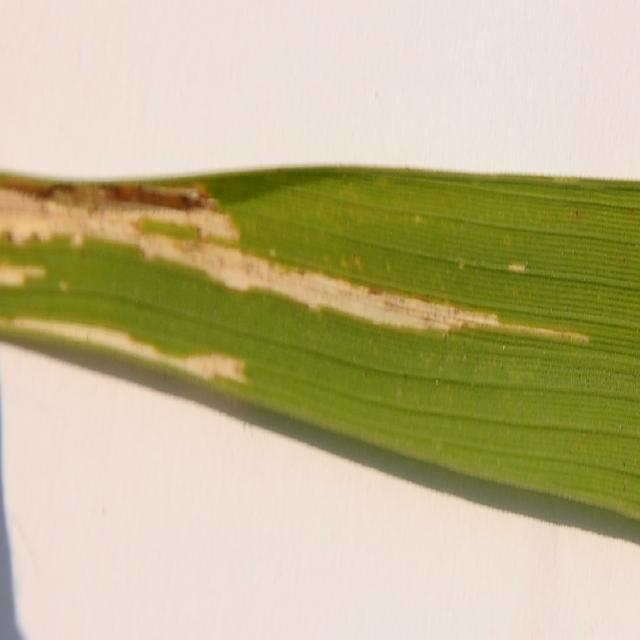bacterial_leaf_blight: (0, 180, 588, 341), (2, 318, 245, 381), (0, 264, 44, 286), (510, 264, 525, 271)
